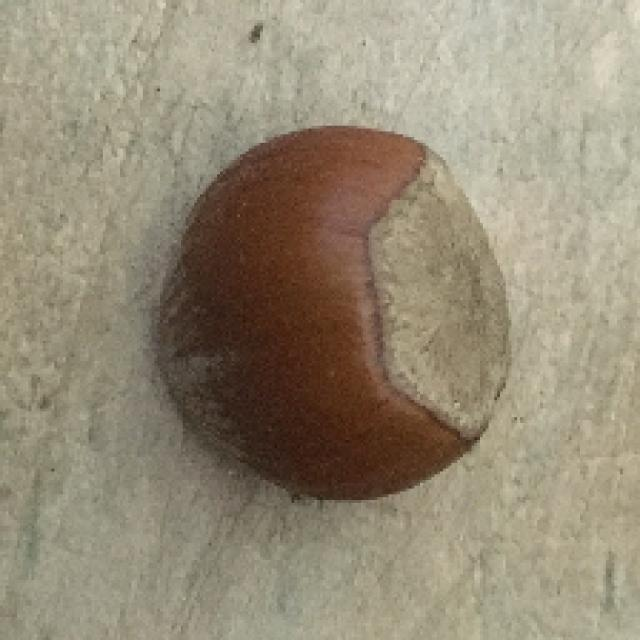qualityHazelnut: (149, 115, 516, 517)
